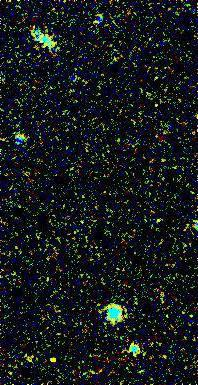star: (38, 346, 68, 376)
